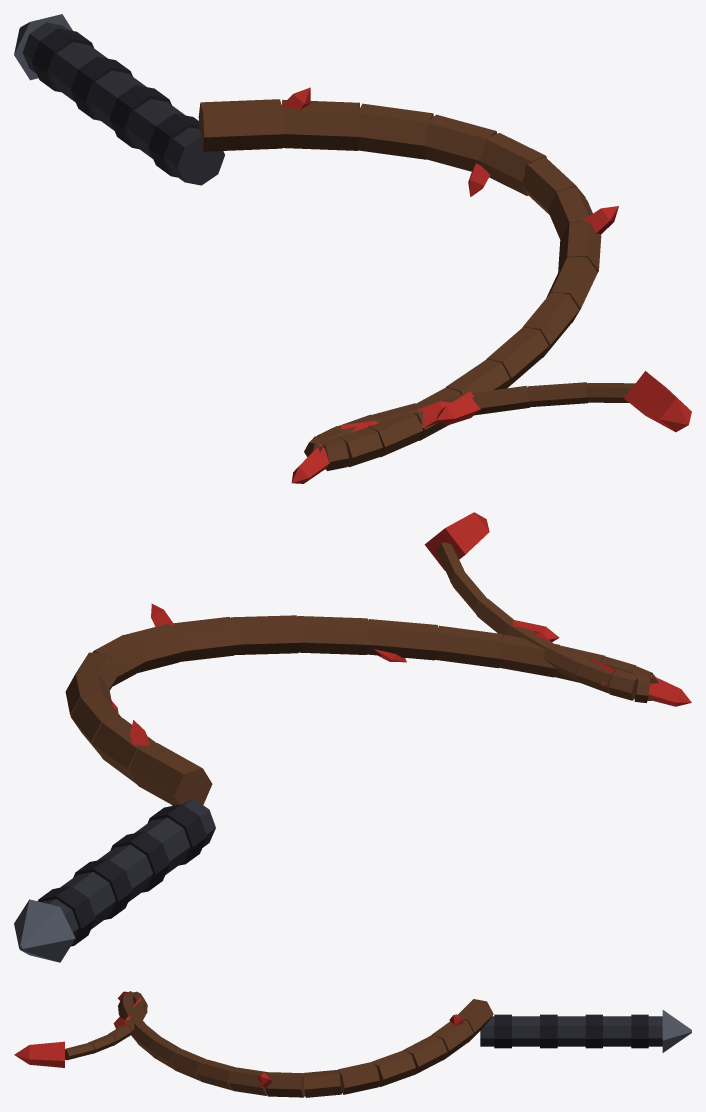
File: 19_Whip.glb
3 views of the same model, one above another, from view 1: azimuth 30°, elevation 25°; view 2: azimuth 150°, elevation 25°; view 3: azimuth 270°, elevation 25° (orthographic). The views are drawn at different scales.
Visible parts, largest first — view 1: 19_Whip; view 2: 19_Whip; view 3: 19_Whip.
Part boxes in pixels (bbox=[...]): 19_Whip: bbox=[14, 14, 691, 483]; 19_Whip: bbox=[14, 512, 691, 962]; 19_Whip: bbox=[14, 991, 691, 1097].
Bounding box in the file's own units: 0.4187 × 0.108 × 0.9291.
